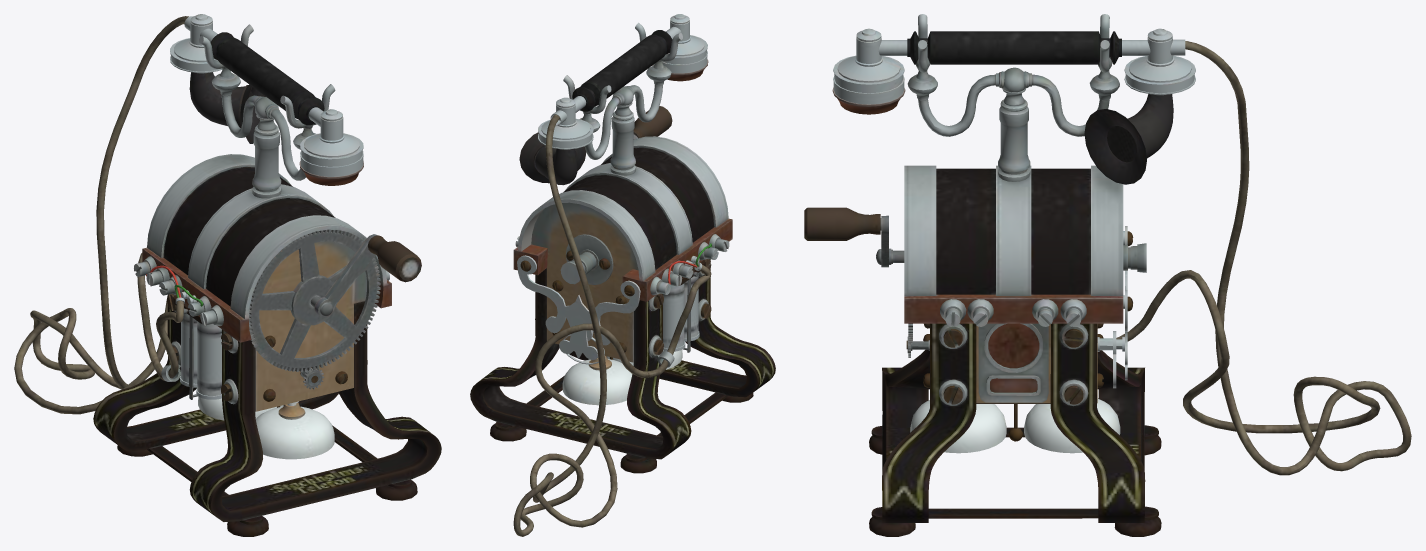
File: telephone-table-ericsson.glb
3 renders of one model, left to right at view 1: azimuth 30°, elevation 25°; view 2: azimuth 150°, elevation 25°; view 3: azimuth 270°, elevation 25°, orthographic. The views are drawn at different scales.
Parts seen in each view (by area): view 1: telephone-table-ericsson; view 2: telephone-table-ericsson; view 3: telephone-table-ericsson.
Boxes of the visible parts, x1=… form: telephone-table-ericsson: x1=14, y1=14, x2=441, y2=536; telephone-table-ericsson: x1=470, y1=14, x2=775, y2=536; telephone-table-ericsson: x1=804, y1=14, x2=1411, y2=536.
Size of the model in its own units: 0.147 by 0.25 by 0.2981.
1 material, 1 textured.
